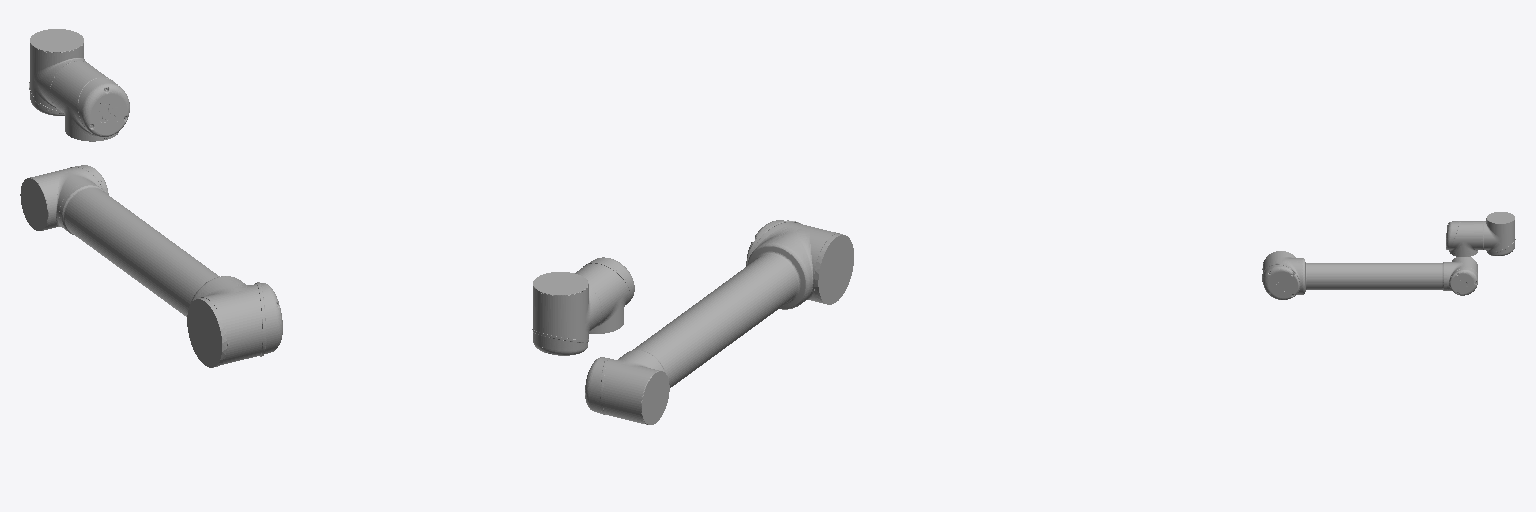
URDF robot description (ur10):
<?xml version="1.0" ?>
<!-- =================================================================================== -->
<!-- |    This document was autogenerated by xacro from ur10_robot.urdf.xacro          | -->
<!-- |    EDITING THIS FILE BY HAND IS NOT RECOMMENDED                                 | -->
<!-- =================================================================================== -->
<robot name="ur10" xmlns:xacro="http://www.ros.org/wiki/xacro">
  <!-- common stuff -->
  <gazebo>
    <plugin filename="libgazebo_ros_control.so" name="ros_control">
      <!--robotNamespace>/</robotNamespace-->
      <!--robotSimType>gazebo_ros_control/DefaultRobotHWSim</robotSimType-->
    </plugin>
    <!--
    <plugin name="gazebo_ros_power_monitor_controller" filename="libgazebo_ros_power_monitor.so">
      <alwaysOn>true</alwaysOn>
      <updateRate>1.0</updateRate>
      <timeout>5</timeout>
      <powerStateTopic>power_state</powerStateTopic>
      <powerStateRate>10.0</powerStateRate>
      <fullChargeCapacity>87.78</fullChargeCapacity>     
      <dischargeRate>-474</dischargeRate>
      <chargeRate>525</chargeRate>
      <dischargeVoltage>15.52</dischargeVoltage>
      <chargeVoltage>16.41</chargeVoltage>
    </plugin>
-->
  </gazebo>
  <!-- ur10 -->
  <!-- arm -->
  <link name="base_link">
    <visual>
      <geometry>
        <mesh filename="package://ur_description/meshes/ur10/visual/Base.dae"/>
      </geometry>
      <material name="LightGrey">
        <color rgba="0.7 0.7 0.7 1.0"/>
      </material>
    </visual>
    <collision>
      <geometry>
        <mesh filename="package://ur_description/meshes/ur10/collision/base.stl"/>
      </geometry>
    </collision>
    <inertial>
      <mass value="4.0"/>
      <origin rpy="0 0 0" xyz="0.0 0.0 0.0"/>
      <inertia ixx="0.0061063308908" ixy="0.0" ixz="0.0" iyy="0.0061063308908" iyz="0.0" izz="0.01125"/>
    </inertial>
  </link>
  <joint name="shoulder_pan_joint" type="revolute">
    <parent link="base_link"/>
    <child link="shoulder_link"/>
    <origin rpy="0.0 0.0 0.0" xyz="0.0 0.0 0.1273"/>
    <axis xyz="0 0 1"/>
    <limit effort="330.0" lower="-6.2831853" upper="6.2831853" velocity="2.16"/>
    <dynamics damping="0.0" friction="0.0"/>
  </joint>
  <link name="shoulder_link">
    <visual>
      <geometry>
        <mesh filename="package://ur_description/meshes/ur10/visual/Shoulder.dae"/>
      </geometry>
      <material name="LightGrey">
        <color rgba="0.7 0.7 0.7 1.0"/>
      </material>
    </visual>
    <collision>
      <geometry>
        <mesh filename="package://ur_description/meshes/ur10/collision/shoulder.stl"/>
      </geometry>
    </collision>
    <inertial>
      <mass value="7.778"/>
      <origin rpy="0 0 0" xyz="0.0 0.0 0.0"/>
      <inertia ixx="0.0314743125769" ixy="0.0" ixz="0.0" iyy="0.0314743125769" iyz="0.0" izz="0.021875625"/>
    </inertial>
  </link>
  <joint name="shoulder_lift_joint" type="revolute">
    <parent link="shoulder_link"/>
    <child link="upper_arm_link"/>
    <origin rpy="0.0 1.570796325 0.0" xyz="0.0 0.220941 0.0"/>
    <axis xyz="0 1 0"/>
    <limit effort="330.0" lower="-6.2831853" upper="6.2831853" velocity="2.16"/>
    <dynamics damping="0.0" friction="0.0"/>
  </joint>
  <link name="upper_arm_link">
    <visual>
      <geometry>
        <mesh filename="package://ur_description/meshes/ur10/visual/UpperArm.dae"/>
      </geometry>
      <material name="LightGrey">
        <color rgba="0.7 0.7 0.7 1.0"/>
      </material>
    </visual>
    <collision>
      <geometry>
        <mesh filename="package://ur_description/meshes/ur10/collision/upper_arm.stl"/>
      </geometry>
    </collision>
    <inertial>
      <mass value="12.93"/>
      <origin rpy="0 0 0" xyz="0.0 0.0 0.306"/>
      <inertia ixx="0.421753803798" ixy="0.0" ixz="0.0" iyy="0.421753803798" iyz="0.0" izz="0.036365625"/>
    </inertial>
  </link>
  <joint name="elbow_joint" type="revolute">
    <parent link="upper_arm_link"/>
    <child link="forearm_link"/>
    <origin rpy="0.0 0.0 0.0" xyz="0.0 -0.1719 0.612"/>
    <axis xyz="0 1 0"/>
    <limit effort="150.0" lower="-6.2831853" upper="6.2831853" velocity="3.15"/>
    <dynamics damping="0.0" friction="0.0"/>
  </joint>
  <link name="forearm_link">
    <visual>
      <geometry>
        <mesh filename="package://ur_description/meshes/ur10/visual/Forearm.dae"/>
      </geometry>
      <material name="LightGrey">
        <color rgba="0.7 0.7 0.7 1.0"/>
      </material>
    </visual>
    <collision>
      <geometry>
        <mesh filename="package://ur_description/meshes/ur10/collision/forearm.stl"/>
      </geometry>
    </collision>
    <inertial>
      <mass value="3.87"/>
      <origin rpy="0 0 0" xyz="0.0 0.0 0.28615"/>
      <inertia ixx="0.111069694097" ixy="0.0" ixz="0.0" iyy="0.111069694097" iyz="0.0" izz="0.010884375"/>
    </inertial>
  </link>
  <joint name="wrist_1_joint" type="revolute">
    <parent link="forearm_link"/>
    <child link="wrist_1_link"/>
    <origin rpy="0.0 1.570796325 0.0" xyz="0.0 0.0 0.5723"/>
    <axis xyz="0 1 0"/>
    <limit effort="54.0" lower="-6.2831853" upper="6.2831853" velocity="3.2"/>
    <dynamics damping="0.0" friction="0.0"/>
  </joint>
  <link name="wrist_1_link">
    <visual>
      <geometry>
        <mesh filename="package://ur_description/meshes/ur10/visual/Wrist1.dae"/>
      </geometry>
      <material name="LightGrey">
        <color rgba="0.7 0.7 0.7 1.0"/>
      </material>
    </visual>
    <collision>
      <geometry>
        <mesh filename="package://ur_description/meshes/ur10/collision/wrist_1.stl"/>
      </geometry>
    </collision>
    <inertial>
      <mass value="1.96"/>
      <origin rpy="0 0 0" xyz="0.0 0.0 0.0"/>
      <inertia ixx="0.0051082479567" ixy="0.0" ixz="0.0" iyy="0.0051082479567" iyz="0.0" izz="0.0055125"/>
    </inertial>
  </link>
  <joint name="wrist_2_joint" type="revolute">
    <parent link="wrist_1_link"/>
    <child link="wrist_2_link"/>
    <origin rpy="0.0 0.0 0.0" xyz="0.0 0.1149 0.0"/>
    <axis xyz="0 0 1"/>
    <limit effort="54.0" lower="-6.2831853" upper="6.2831853" velocity="3.2"/>
    <dynamics damping="0.0" friction="0.0"/>
  </joint>
  <link name="wrist_2_link">
    <visual>
      <geometry>
        <mesh filename="package://ur_description/meshes/ur10/visual/Wrist2.dae"/>
      </geometry>
      <material name="LightGrey">
        <color rgba="0.7 0.7 0.7 1.0"/>
      </material>
    </visual>
    <collision>
      <geometry>
        <mesh filename="package://ur_description/meshes/ur10/collision/wrist_2.stl"/>
      </geometry>
    </collision>
    <inertial>
      <mass value="1.96"/>
      <origin rpy="0 0 0" xyz="0.0 0.0 0.0"/>
      <inertia ixx="0.0051082479567" ixy="0.0" ixz="0.0" iyy="0.0051082479567" iyz="0.0" izz="0.0055125"/>
    </inertial>
  </link>
  <joint name="wrist_3_joint" type="revolute">
    <parent link="wrist_2_link"/>
    <child link="wrist_3_link"/>
    <origin rpy="0.0 0.0 0.0" xyz="0.0 0.0 0.1157"/>
    <axis xyz="0 1 0"/>
    <limit effort="54.0" lower="-6.2831853" upper="6.2831853" velocity="3.2"/>
    <dynamics damping="0.0" friction="0.0"/>
  </joint>
  <link name="wrist_3_link">
    <visual>
      <geometry>
        <mesh filename="package://ur_description/meshes/ur10/visual/Wrist3.dae"/>
      </geometry>
      <material name="LightGrey">
        <color rgba="0.7 0.7 0.7 1.0"/>
      </material>
    </visual>
    <collision>
      <geometry>
        <mesh filename="package://ur_description/meshes/ur10/collision/wrist_3.stl"/>
      </geometry>
    </collision>
    <inertial>
      <mass value="0.202"/>
      <origin rpy="0 0 0" xyz="0.0 0.0 0.0"/>
      <inertia ixx="0.000526462289415" ixy="0.0" ixz="0.0" iyy="0.000526462289415" iyz="0.0" izz="0.000568125"/>
    </inertial>
  </link>
  <joint name="ee_fixed_joint" type="fixed">
    <parent link="wrist_3_link"/>
    <child link="ee_link"/>
    <origin rpy="0.0 0.0 1.570796325" xyz="0.0 0.0922 0.0"/>
  </joint>
  <link name="ee_link">
    <collision>
      <geometry>
        <box size="0.01 0.01 0.01"/>
      </geometry>
      <origin rpy="0 0 0" xyz="-0.01 0 0"/>
    </collision>
  </link>
  <transmission name="shoulder_pan_trans">
    <type>transmission_interface/SimpleTransmission</type>
    <joint name="shoulder_pan_joint">
      <hardwareInterface>PositionJointInterface</hardwareInterface>
    </joint>
    <actuator name="shoulder_pan_motor">
      <mechanicalReduction>1</mechanicalReduction>
    </actuator>
  </transmission>
  <transmission name="shoulder_lift_trans">
    <type>transmission_interface/SimpleTransmission</type>
    <joint name="shoulder_lift_joint">
      <hardwareInterface>PositionJointInterface</hardwareInterface>
    </joint>
    <actuator name="shoulder_lift_motor">
      <mechanicalReduction>1</mechanicalReduction>
    </actuator>
  </transmission>
  <transmission name="elbow_trans">
    <type>transmission_interface/SimpleTransmission</type>
    <joint name="elbow_joint">
      <hardwareInterface>PositionJointInterface</hardwareInterface>
    </joint>
    <actuator name="elbow_motor">
      <mechanicalReduction>1</mechanicalReduction>
    </actuator>
  </transmission>
  <transmission name="wrist_1_trans">
    <type>transmission_interface/SimpleTransmission</type>
    <joint name="wrist_1_joint">
      <hardwareInterface>PositionJointInterface</hardwareInterface>
    </joint>
    <actuator name="wrist_1_motor">
      <mechanicalReduction>1</mechanicalReduction>
    </actuator>
  </transmission>
  <transmission name="wrist_2_trans">
    <type>transmission_interface/SimpleTransmission</type>
    <joint name="wrist_2_joint">
      <hardwareInterface>PositionJointInterface</hardwareInterface>
    </joint>
    <actuator name="wrist_2_motor">
      <mechanicalReduction>1</mechanicalReduction>
    </actuator>
  </transmission>
  <transmission name="wrist_3_trans">
    <type>transmission_interface/SimpleTransmission</type>
    <joint name="wrist_3_joint">
      <hardwareInterface>PositionJointInterface</hardwareInterface>
    </joint>
    <actuator name="wrist_3_motor">
      <mechanicalReduction>1</mechanicalReduction>
    </actuator>
  </transmission>
  <link name="base"/>
  <joint name="base_link-base" type="fixed">
    <!-- NOTE: this rotation is only needed as long as base_link itself is
                 not corrected wrt the real robot (ie: rotated over 180
                 degrees)
      -->
    <origin rpy="0 0 -3.14159265" xyz="0 0 0"/>
    <parent link="base_link"/>
    <child link="base"/>
  </joint>
  <link name="tool0"/>
  <joint name="wrist_3_link-tool0" type="fixed">
    <origin rpy="-1.570796325 0 0" xyz="0 0.0922 0"/>
    <parent link="wrist_3_link"/>
    <child link="tool0"/>
  </joint>
  <link name="world"/>
  <joint name="world_joint" type="fixed">
    <parent link="world"/>
    <child link="base_link"/>
    <origin rpy="0.0 0.0 0.0" xyz="0.0 0.0 0.0"/>
  </joint>
</robot>

--- What the picture shows (computed from the rendered views, not written in the file) ---
The picture shows the robot from 3 angles, left to right: view 1: azimuth 30°, elevation 25°; view 2: azimuth 150°, elevation 25°; view 3: azimuth 270°, elevation 25°; orthographic projection.
Robot: ur10 — 11 links, 10 joints (6 revolute, 4 fixed); root link world; default pose: all joints at 0.
Links seen in each view (by area): view 1: forearm_link, wrist_1_link, wrist_2_link; view 2: forearm_link, wrist_2_link, wrist_1_link; view 3: forearm_link, wrist_2_link, wrist_1_link.
Boxes of the visible links, <box> form: forearm_link: <box>20,165,282,367</box>; wrist_1_link: <box>50,61,129,141</box>; wrist_2_link: <box>29,29,88,115</box>; forearm_link: <box>585,220,853,424</box>; wrist_2_link: <box>532,272,601,355</box>; wrist_1_link: <box>575,257,634,333</box>; forearm_link: <box>1262,251,1477,299</box>; wrist_2_link: <box>1484,212,1515,255</box>; wrist_1_link: <box>1446,221,1483,256</box>.
Bounding box of the posed robot: 163 × 1474 × 286 m (x, y, z).
7 mesh visuals loaded from 7 distinct referenced files (7 Collada DAE).